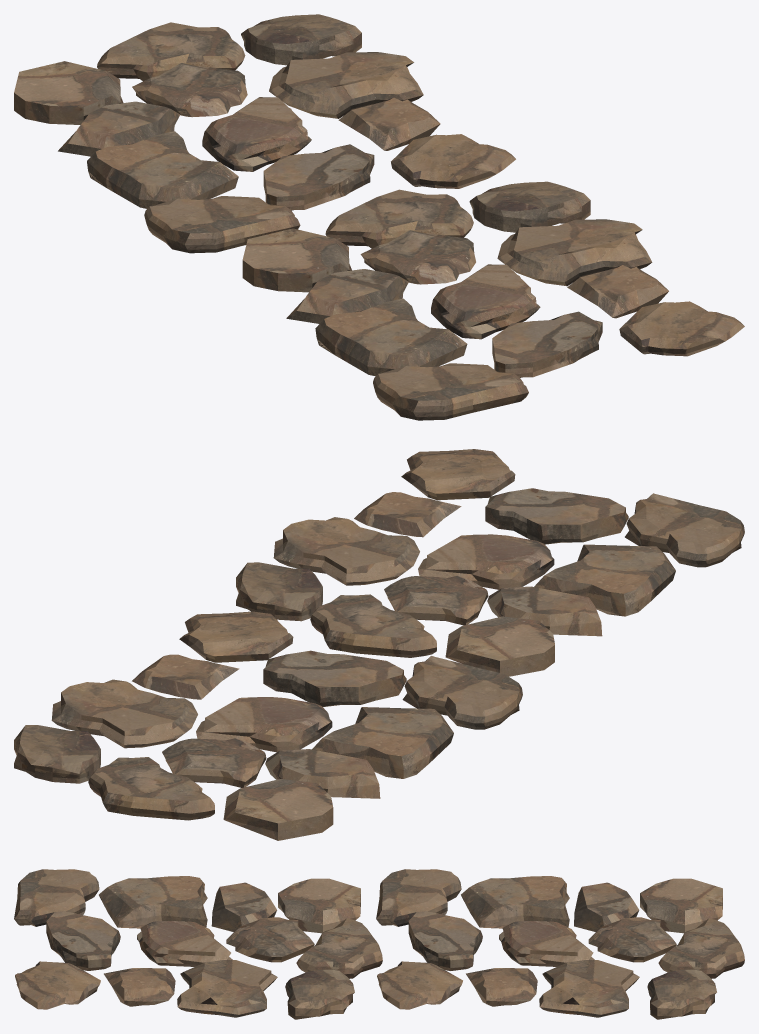
Rendered from stone_path_lowpoly.obj.
3 renders of one model, top to bottom at view 1: azimuth 30°, elevation 25°; view 2: azimuth 150°, elevation 25°; view 3: azimuth 270°, elevation 25°, orthographic. The views are drawn at different scales.
Visible parts, largest first — view 1: Cube.008; view 2: Cube.008; view 3: Cube.008.
Boxes of the visible parts, x1,y1,x2,y2 form: Cube.008: (14, 14, 744, 420); Cube.008: (14, 449, 744, 840); Cube.008: (14, 869, 744, 1019).
Bounding box in the file's own units: 1.9 × 0.1356 × 4.22.
